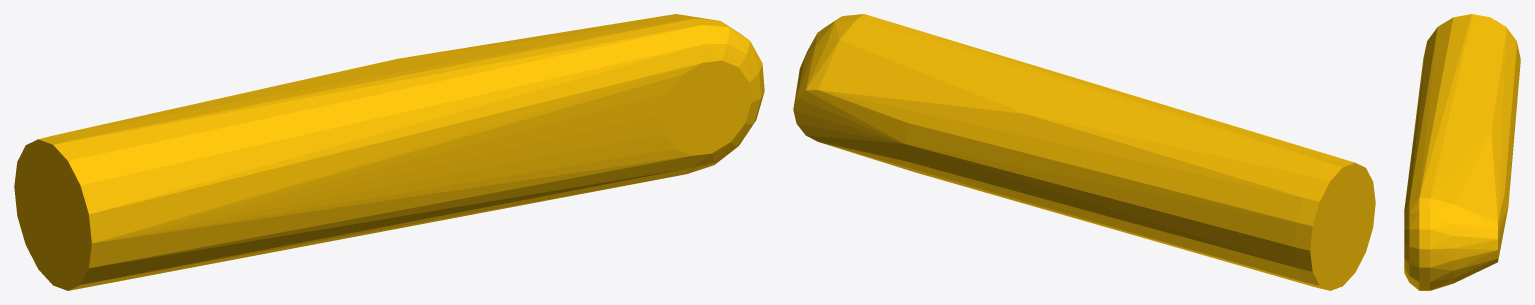
The picture shows the model from 3 angles, left to right: view 1: azimuth 30°, elevation 25°; view 2: azimuth 150°, elevation 25°; view 3: azimuth 270°, elevation 25°; orthographic projection. The views are drawn at different scales.
Visible parts, largest first — view 1: Link 4; view 2: Link 4; view 3: Link 4.
Part boxes in pixels (x1,y1,x2,y2): Link 4: (14,14,764,290); Link 4: (793,14,1375,290); Link 4: (1404,14,1520,290).
Size of the model in its own units: 0.8094 by 0.1942 by 0.1679.
